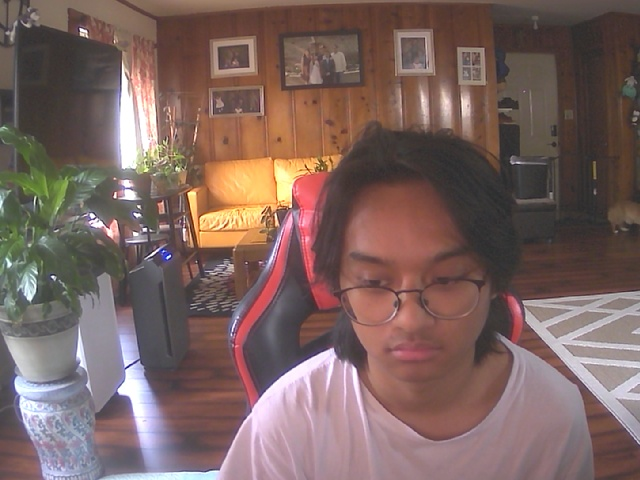neutral: (326, 150, 510, 385)
